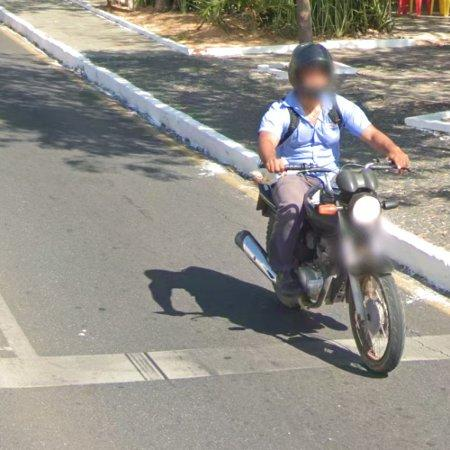motorcycles: (337, 169, 378, 194)
